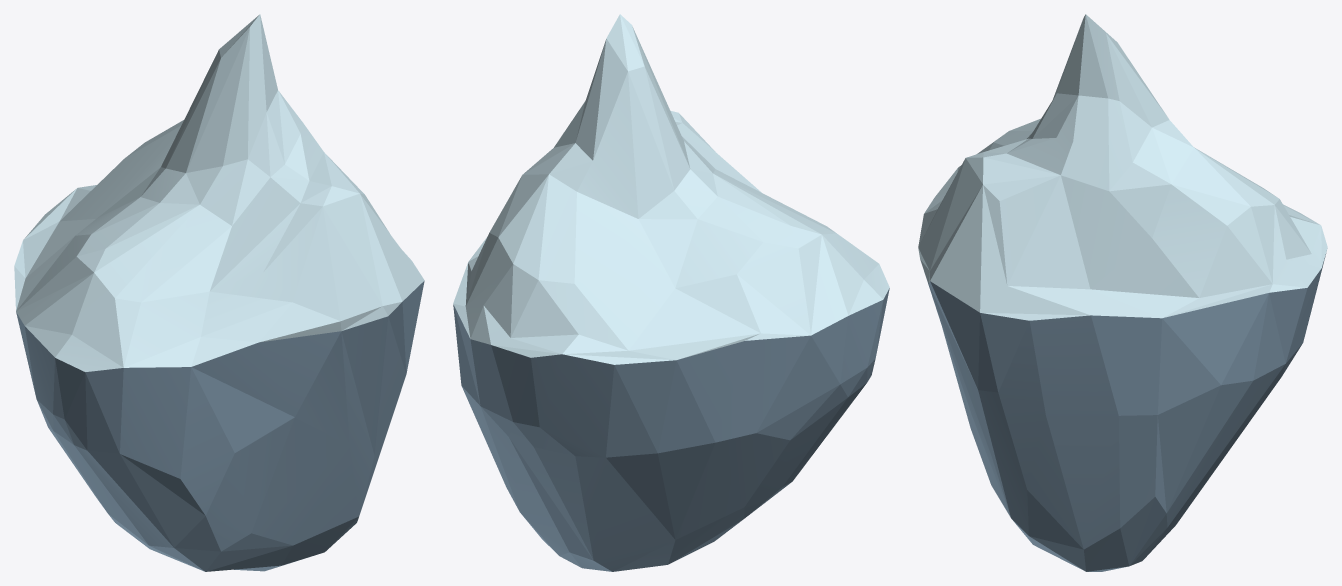
File: Iceberg_05.glb
3 renders of one model, left to right at view 1: azimuth 30°, elevation 25°; view 2: azimuth 150°, elevation 25°; view 3: azimuth 270°, elevation 25°, orthographic. The views are drawn at different scales.
Parts seen in each view (by area): view 1: SM_Env_Iceberg_01; view 2: SM_Env_Iceberg_01; view 3: SM_Env_Iceberg_01.
Part boxes in pixels (x1,y1,x2,y2): SM_Env_Iceberg_01: (14,14,424,571); SM_Env_Iceberg_01: (453,14,889,571); SM_Env_Iceberg_01: (918,14,1327,571).
Size of the model in its own units: 8.4 by 12.33 by 8.4.
1 material, 1 textured.
